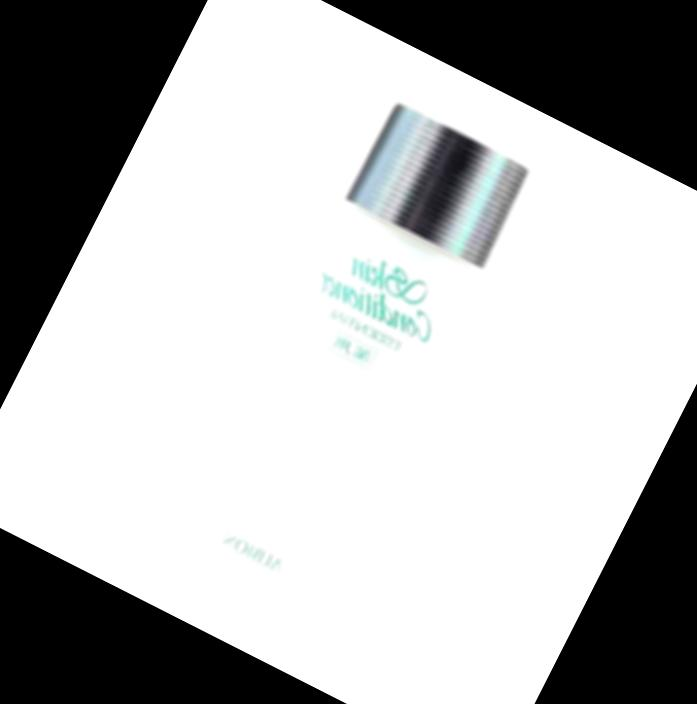cosmetic: (160, 96, 541, 633)
